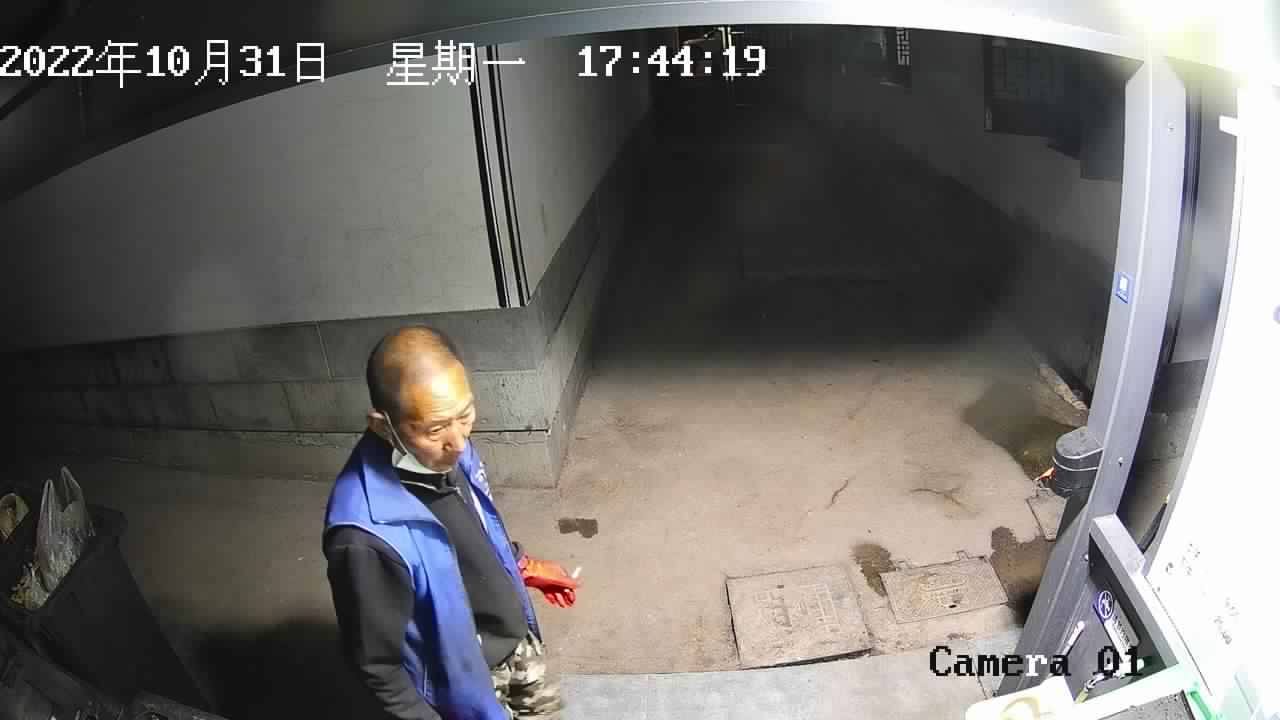worker: (320, 322, 584, 720)
